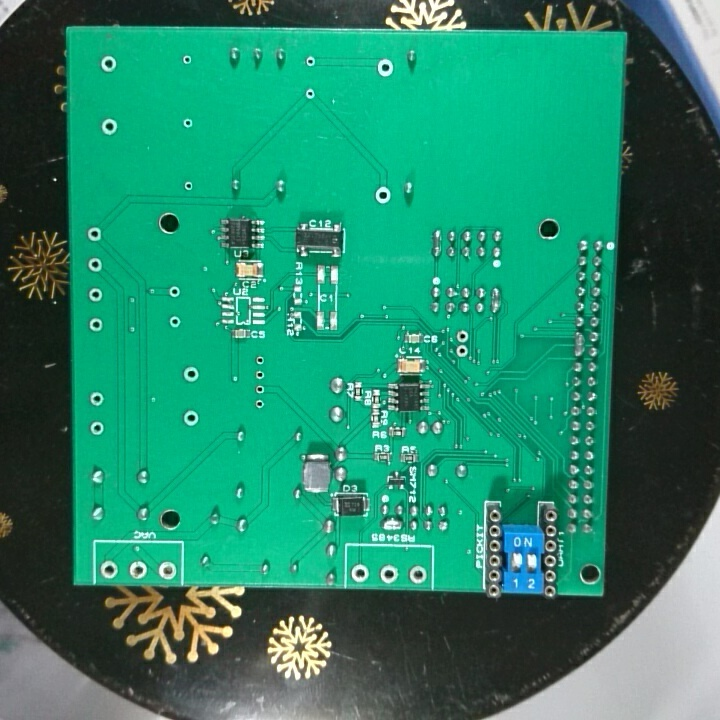F: (374, 56, 397, 80), (98, 115, 120, 138), (377, 562, 400, 584), (406, 563, 428, 586), (127, 558, 149, 580), (349, 561, 369, 585), (99, 53, 119, 76), (154, 560, 177, 580), (99, 558, 120, 579), (372, 184, 392, 206), (85, 223, 104, 246), (84, 256, 107, 275), (182, 362, 201, 385), (182, 407, 201, 429), (87, 388, 106, 409), (85, 315, 106, 333), (88, 418, 105, 439), (87, 286, 105, 304), (453, 327, 471, 343), (251, 394, 267, 412), (167, 282, 182, 301), (454, 342, 469, 361), (251, 380, 268, 396), (180, 50, 194, 69), (167, 314, 183, 330), (302, 85, 317, 102), (180, 114, 194, 132), (253, 352, 268, 368), (303, 52, 317, 69), (182, 177, 196, 194), (253, 366, 267, 383)
P: (429, 226, 444, 259), (488, 284, 503, 316), (572, 329, 587, 358), (379, 515, 401, 533)
